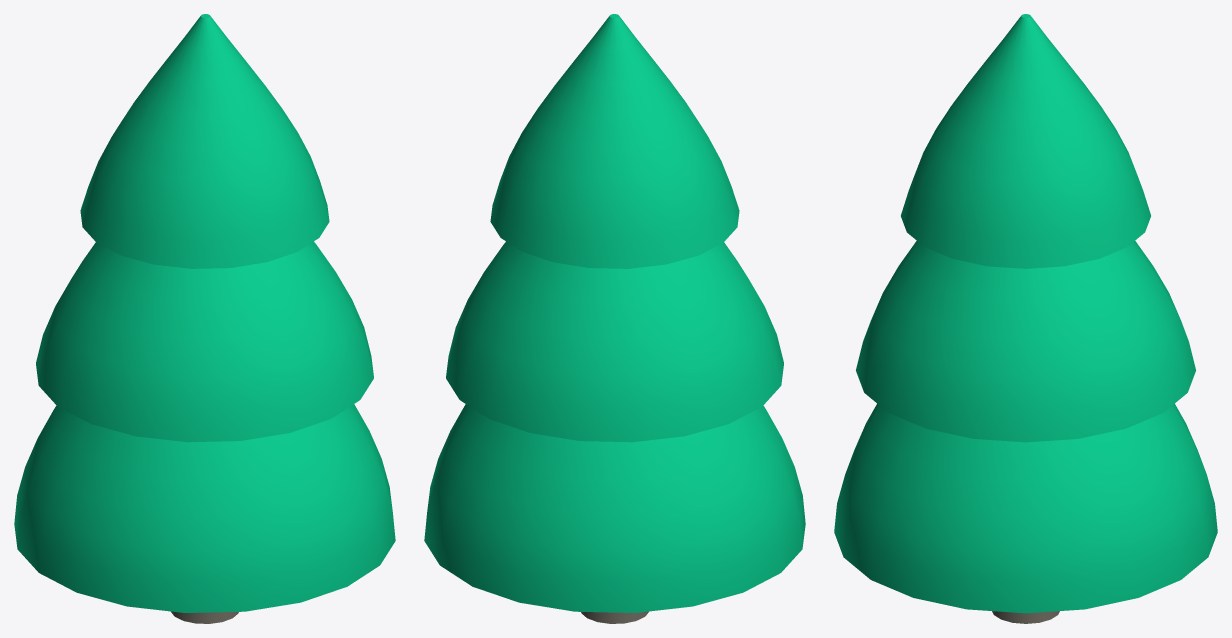
File: sapin_1.fbx
The picture shows the model from 3 angles, left to right: view 1: azimuth 30°, elevation 25°; view 2: azimuth 150°, elevation 25°; view 3: azimuth 270°, elevation 25°; orthographic projection.
Visible parts, largest first — view 1: Cone_3, Cone_2, Cone, Cylinder; view 2: Cone_3, Cone_2, Cone, Cylinder; view 3: Cone_3, Cone_2, Cone, Cylinder.
Part boxes in pixels (x1,y1,x2,y2): Cone_3: [14, 404, 395, 612]; Cone_2: [36, 241, 373, 442]; Cone: [80, 14, 329, 268]; Cylinder: [170, 611, 238, 623]; Cone_3: [424, 404, 805, 612]; Cone_2: [446, 241, 783, 442]; Cone: [490, 14, 739, 268]; Cylinder: [581, 611, 649, 623]; Cone_3: [834, 403, 1217, 613]; Cone_2: [856, 241, 1195, 442]; Cone: [901, 14, 1150, 268]; Cylinder: [992, 611, 1059, 623].
Bounding box in the file's own units: 370 × 632 × 370.
